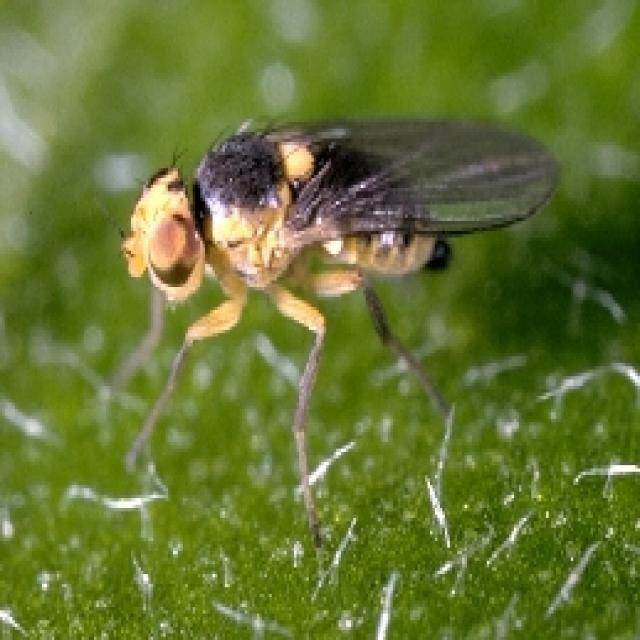Serpentine leafminer: (95, 106, 572, 587)
